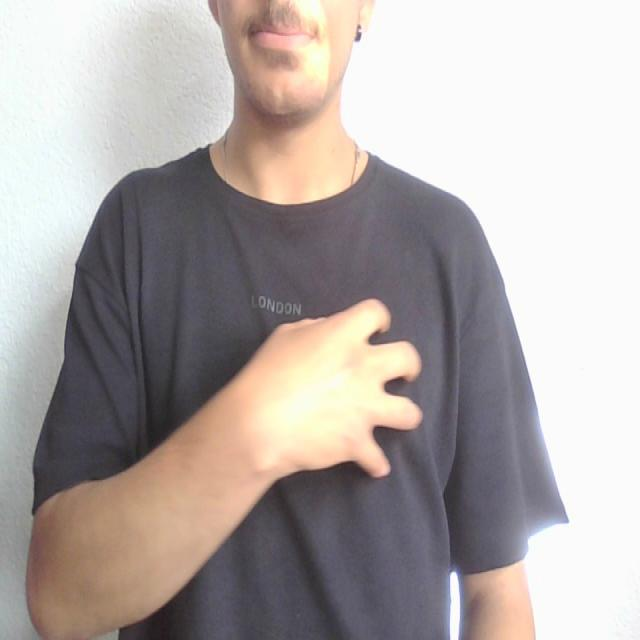Anne: (130, 287, 460, 496)
